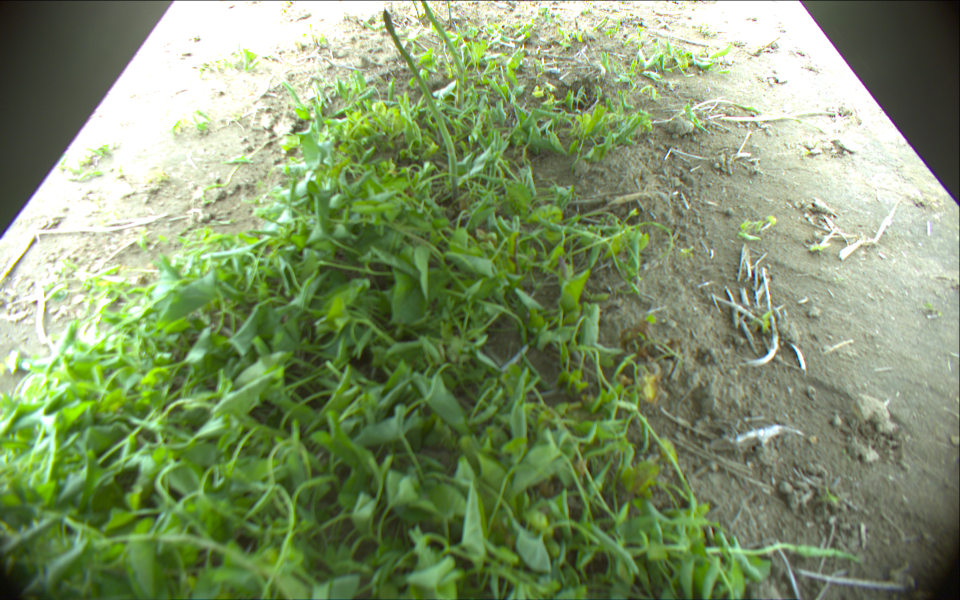aspa: (383, 10, 464, 205), (423, 1, 467, 74), (413, 1, 423, 22), (446, 1, 454, 26)
